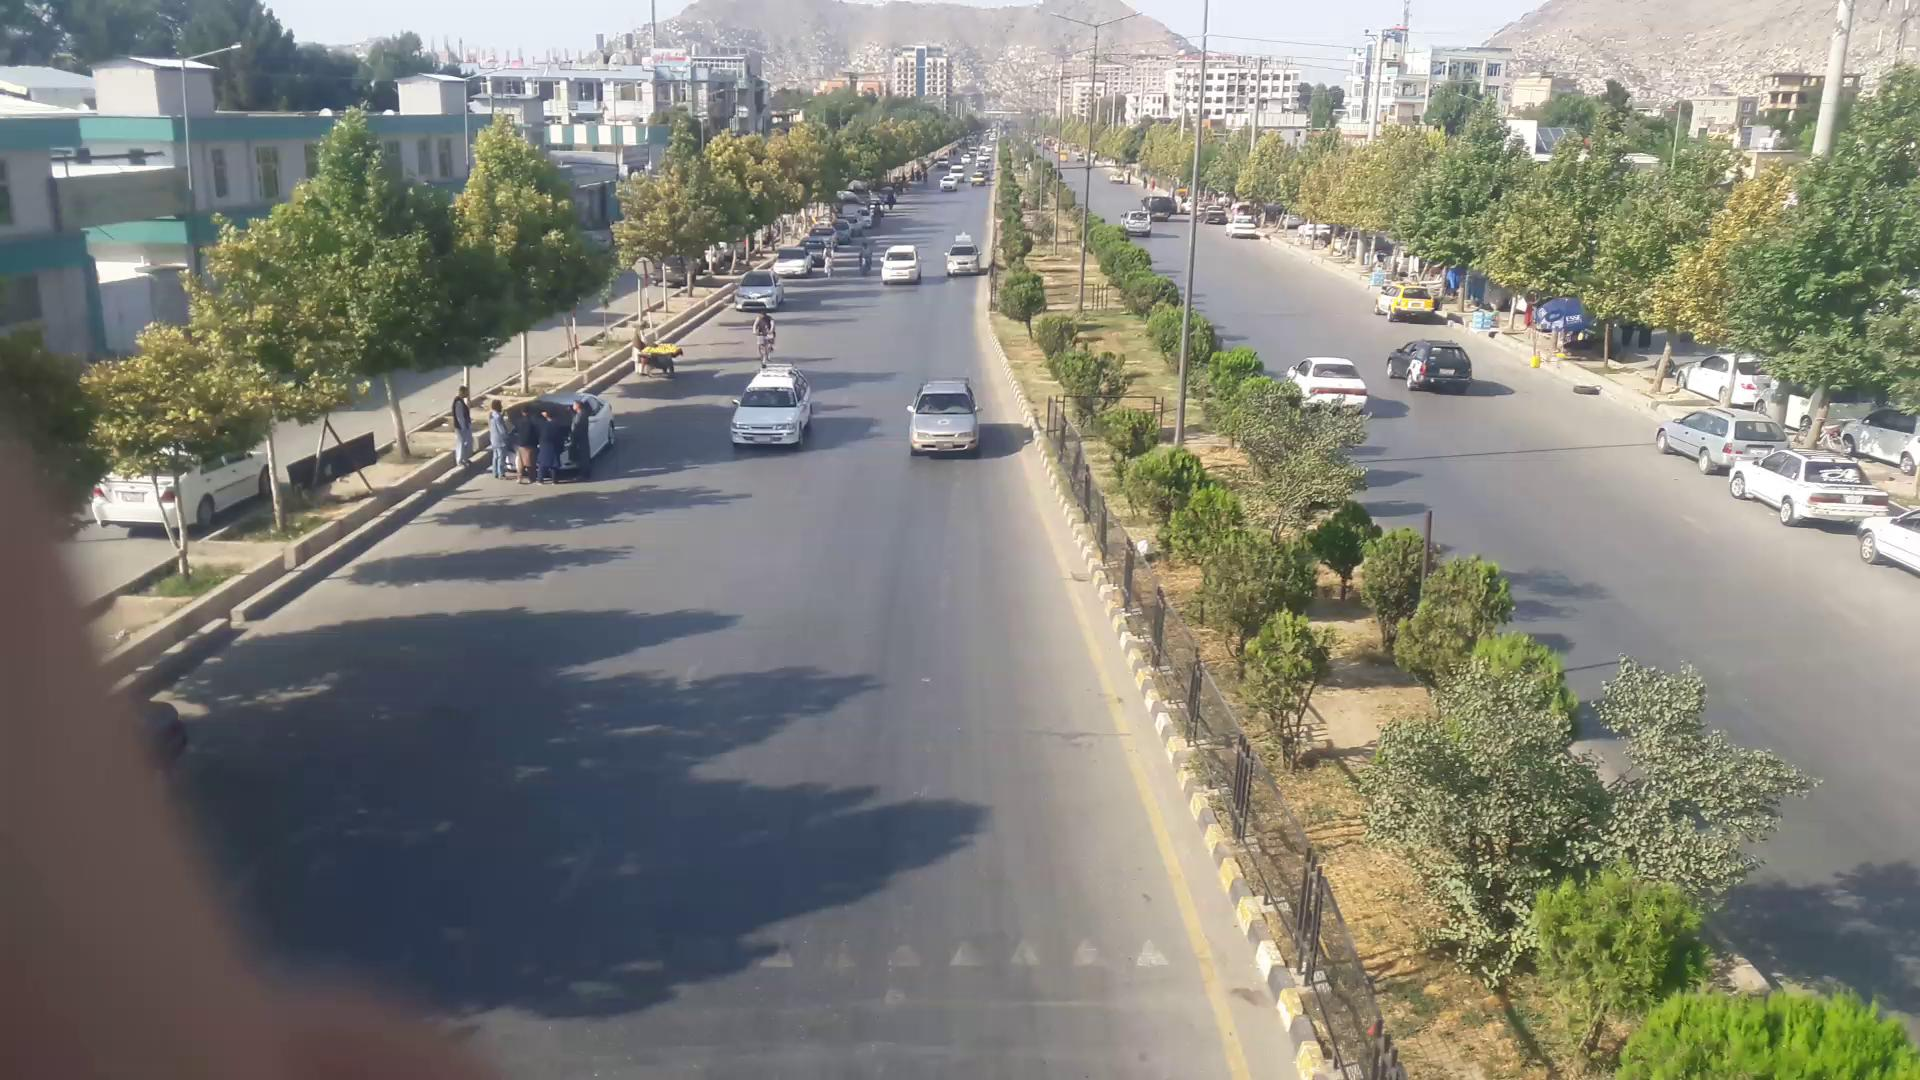car: (1720, 454, 1892, 533), (1661, 411, 1804, 473), (732, 366, 816, 447), (907, 382, 977, 451), (1861, 502, 1918, 585), (1290, 360, 1371, 407), (1389, 340, 1476, 384), (1374, 287, 1435, 319), (880, 246, 921, 286), (735, 277, 780, 310), (944, 243, 981, 273), (774, 248, 811, 277), (1119, 211, 1152, 233)
